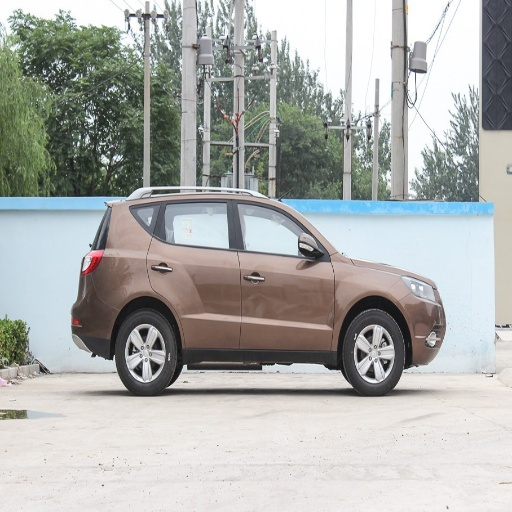back_right_door: (147, 197, 241, 349)
front_right_door: (237, 197, 334, 348)
